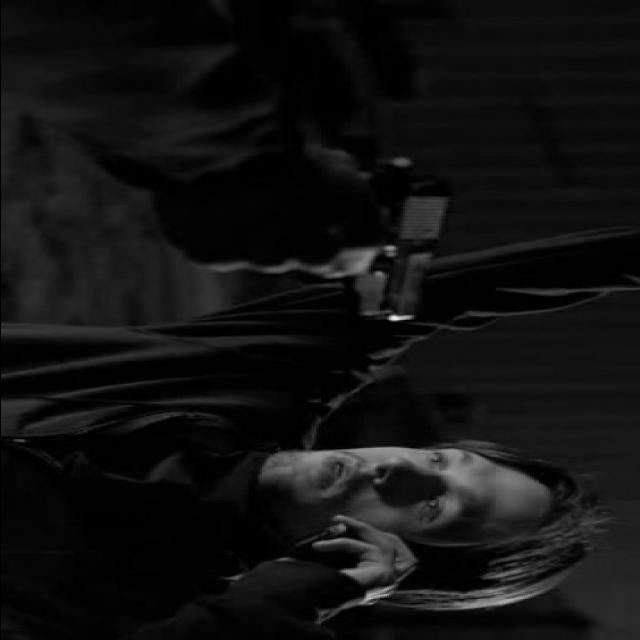weapons: (218, 148, 466, 330)
